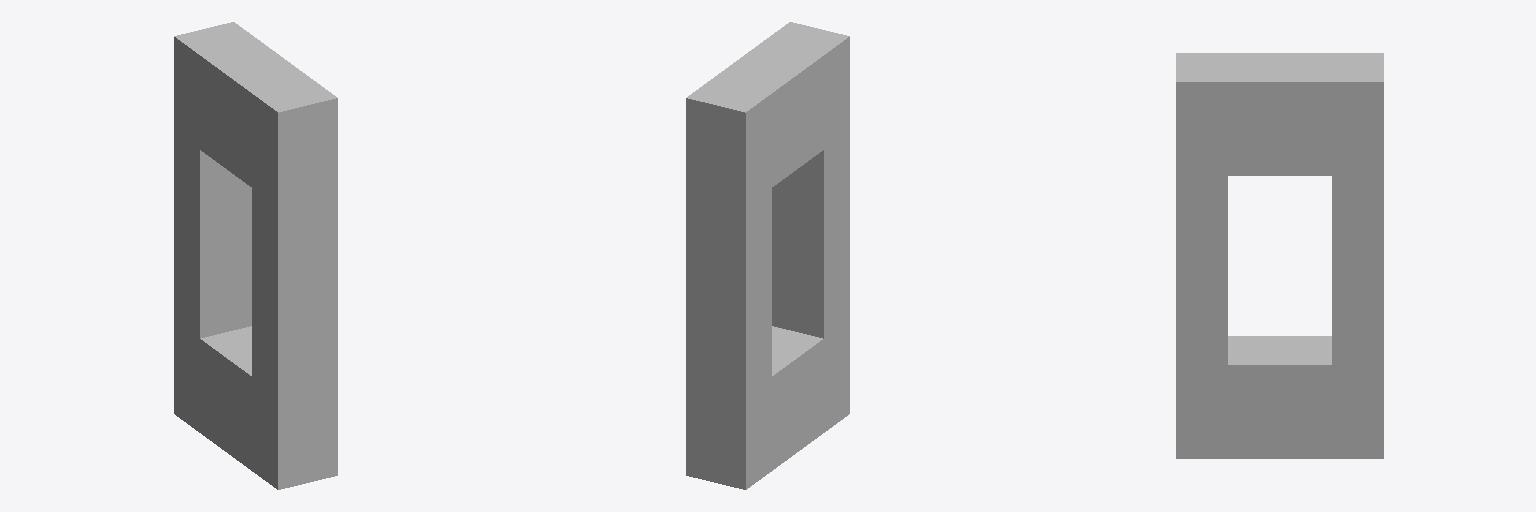
File: door.obj
The picture shows the model from 3 angles: view 1: azimuth 30°, elevation 25°; view 2: azimuth 150°, elevation 25°; view 3: azimuth 270°, elevation 25°; orthographic projection.
Parts seen in each view (by area): view 1: Plane; view 2: Plane; view 3: Plane.
Part boxes in pixels (x1,y1,x2,y2): Plane: (174,22,337,489); Plane: (686,22,849,489); Plane: (1176,53,1383,458).
Bounding box in the file's own units: 0.6635 × 4 × 2.